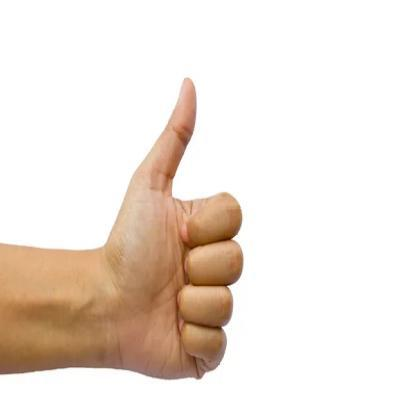thumb_up: (111, 71, 245, 386)
